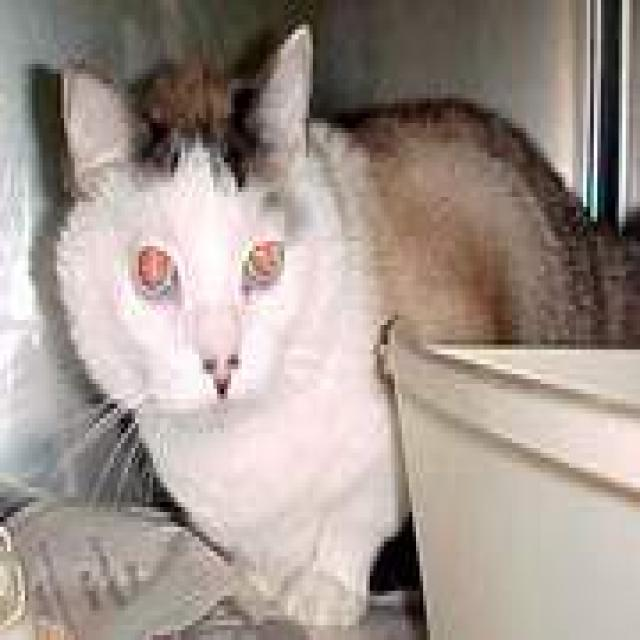cats: (57, 20, 640, 635)
